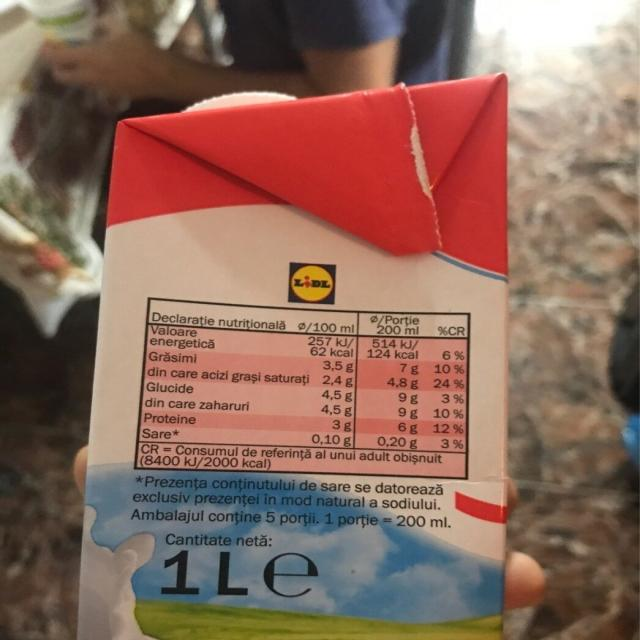milk: (78, 73, 510, 640)
